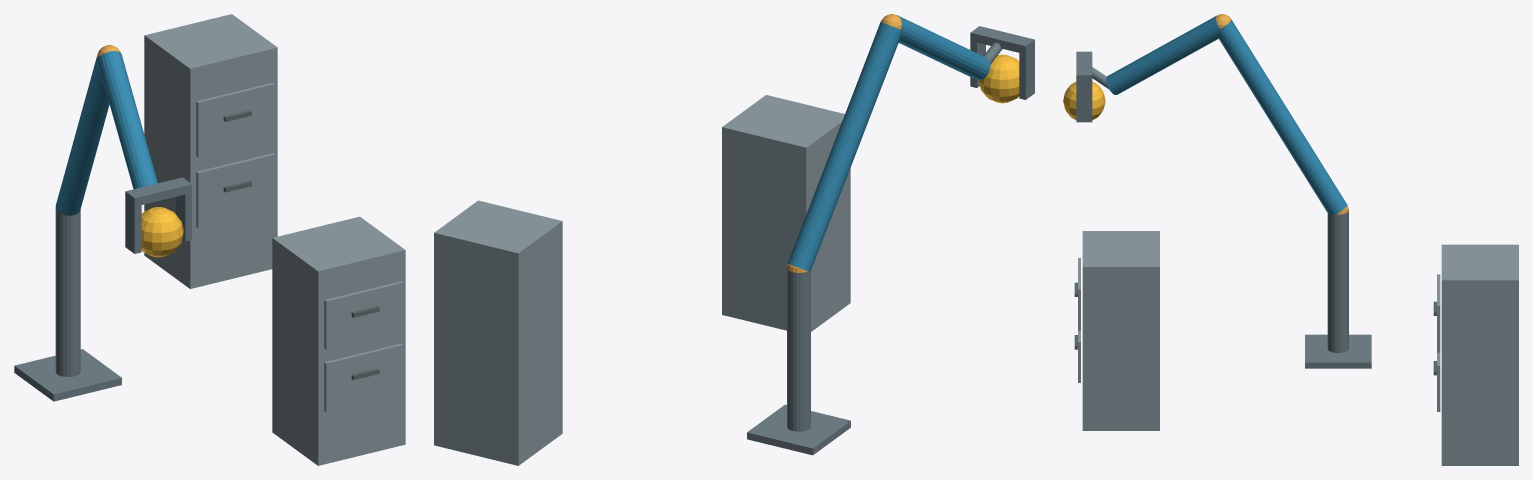
The picture shows the model from 3 angles, left to right: view 1: azimuth 30°, elevation 25°; view 2: azimuth 150°, elevation 25°; view 3: azimuth 270°, elevation 25°; orthographic projection. The views are drawn at different scales.
Visible parts, largest first — view 1: cabinet_1 body, cabinet_2 body, cabinet_2 drawer front, cabinet_2 drawer front.001, fixed post, cabinet_1 drawer front, cabinet_1 drawer front.001, moving link 2, moving link 1, pedestal, ball ball_1, gripper bridge (+2 smaller); view 2: cabinet_2 body, cabinet_1 body, moving link 1, fixed post, pedestal, moving link 2, ball ball_1, gripper bridge, gripper finger -1; view 3: cabinet_2 body, cabinet_1 body, moving link 1, fixed post, moving link 2, pedestal, ball ball_1, gripper finger 1, gripper bridge.
Part boxes in pixels (x1,y1,x2,y2): cabinet_1 body: (272, 216, 405, 465); cabinet_2 body: (144, 14, 277, 288); cabinet_2 drawer front: (196, 153, 275, 227); cabinet_2 drawer front.001: (196, 82, 275, 157); fixed post: (55, 206, 80, 376); cabinet_1 drawer front: (324, 343, 403, 412); cabinet_1 drawer front.001: (324, 281, 403, 349); moving link 2: (97, 51, 157, 189); moving link 1: (55, 53, 109, 215); pedestal: (14, 349, 121, 401); ball ball_1: (141, 207, 183, 257); gripper bridge: (125, 177, 191, 206); cabinet_2 body: (434, 200, 562, 465); cabinet_1 body: (722, 95, 850, 331); moving link 1: (788, 22, 901, 271); fixed post: (787, 269, 810, 431); pedestal: (747, 404, 850, 455); moving link 2: (897, 15, 990, 79); ball ball_1: (979, 54, 1019, 103); gripper bridge: (970, 26, 1034, 54); gripper finger -1: (1019, 48, 1034, 99); cabinet_2 body: (1441, 244, 1518, 465); cabinet_1 body: (1082, 231, 1159, 430); moving link 1: (1218, 19, 1347, 214); fixed post: (1327, 210, 1348, 352); moving link 2: (1105, 15, 1219, 94); pedestal: (1305, 334, 1371, 368); ball ball_1: (1063, 82, 1105, 119); gripper finger 1: (1076, 82, 1092, 122); gripper bridge: (1076, 51, 1092, 82).
Size of the model in its own units: 1.32 by 1.36 by 1.71.
